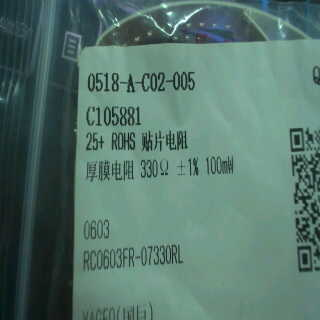330R: (137, 155, 170, 179)
